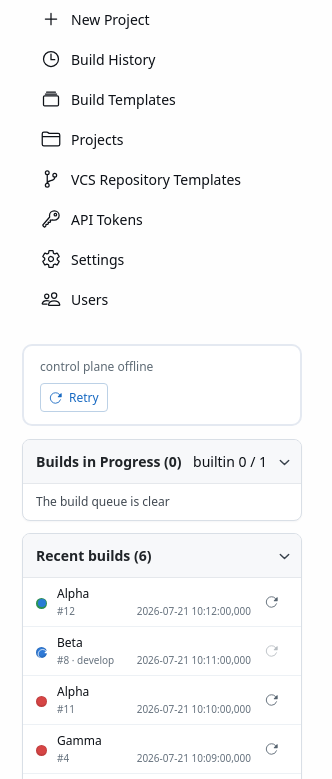
Test: JenkinsHomeRail › shows an actionable error and retries the queue request
The image size is (332, 779).
Expected: the message "control plane offline Retry" is shown, x1=22 y1=344 x2=302 y2=426
Click the button with class "jenkins-rail-retry". click: (74, 398)
box: x1=40 y1=383 x2=108 y2=412
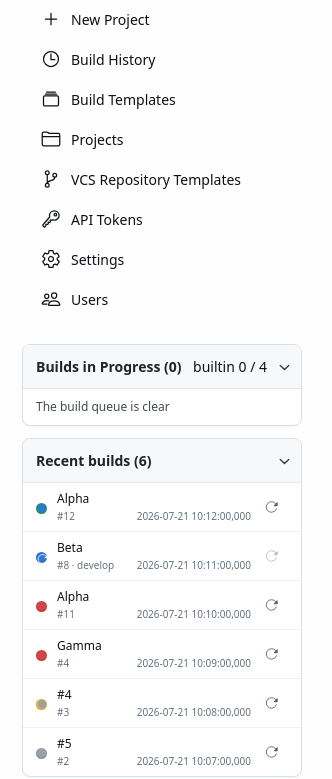
Expected: the text "The build queue is clear" is shown, x1=36 y1=398 x2=170 y2=415
Expected: the message "control plane offline Retry" is gone
